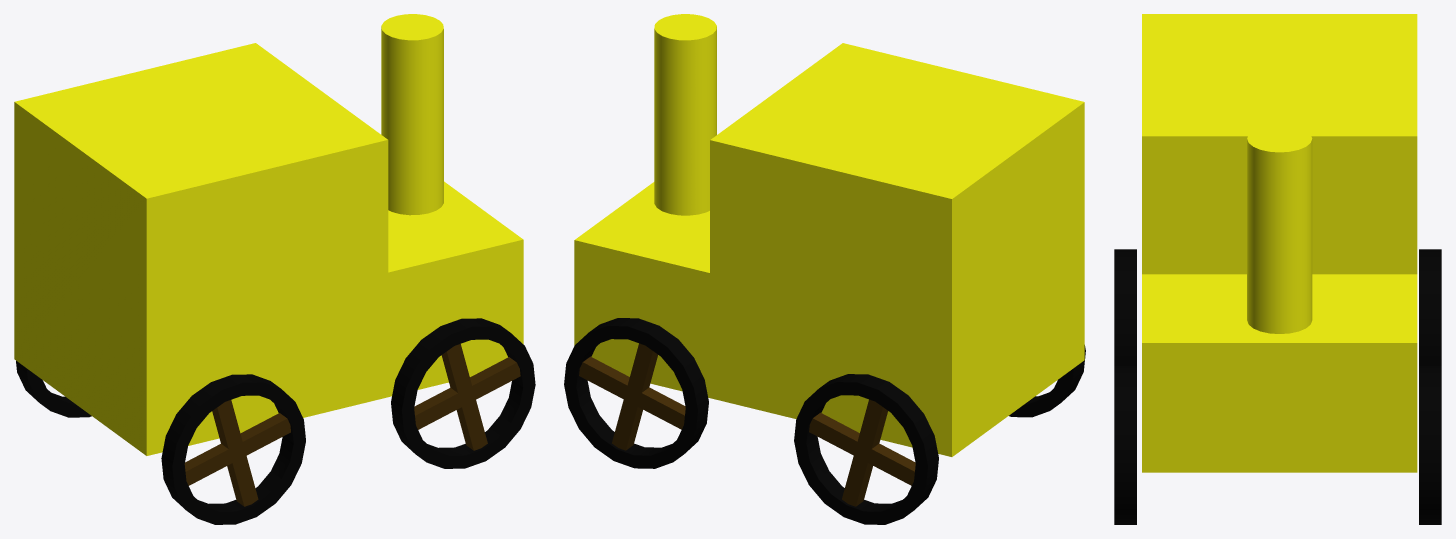
File: train5.fbx
3 renders of one model, left to right at view 1: azimuth 30°, elevation 25°; view 2: azimuth 150°, elevation 25°; view 3: azimuth 270°, elevation 25°, orthographic. The views are drawn at different scales.
Visible parts, largest first — view 1: pCube3, pCube4, wheel, wheel1, pCylinder1, wheel2; view 2: pCube3, pCube4, wheel2, wheel3, pCylinder1, wheel1; view 3: pCube3, pCube4, pCylinder1, wheel, wheel3, wheel1, wheel2.
Boxes of the visible parts, left/top/right/bottom form: pCube3: left=14, top=43, right=388, bottom=455; pCube4: left=388, top=181, right=523, bottom=397; wheel: left=391, top=318, right=535, bottom=468; wheel1: left=161, top=374, right=305, bottom=524; pCylinder1: left=381, top=14, right=443, bottom=215; wheel2: left=16, top=361, right=91, bottom=417; pCube3: left=710, top=43, right=1084, bottom=456; pCube4: left=574, top=182, right=710, bottom=397; wheel2: left=794, top=374, right=938, bottom=524; wheel3: left=564, top=318, right=708, bottom=468; pCylinder1: left=654, top=14, right=716, bottom=215; wheel1: left=1009, top=345, right=1085, bottom=417; pCube3: left=1142, top=14, right=1417, bottom=274; pCube4: left=1142, top=274, right=1417, bottom=472; pCylinder1: left=1247, top=125, right=1312, bottom=333; wheel: left=1114, top=365, right=1136, bottom=524; wheel3: left=1419, top=365, right=1441, bottom=524; wheel1: left=1114, top=249, right=1136, bottom=365; wheel2: left=1419, top=249, right=1441, bottom=365.
Size of the model in its own units: 2.88 by 2.75 by 2.08.
